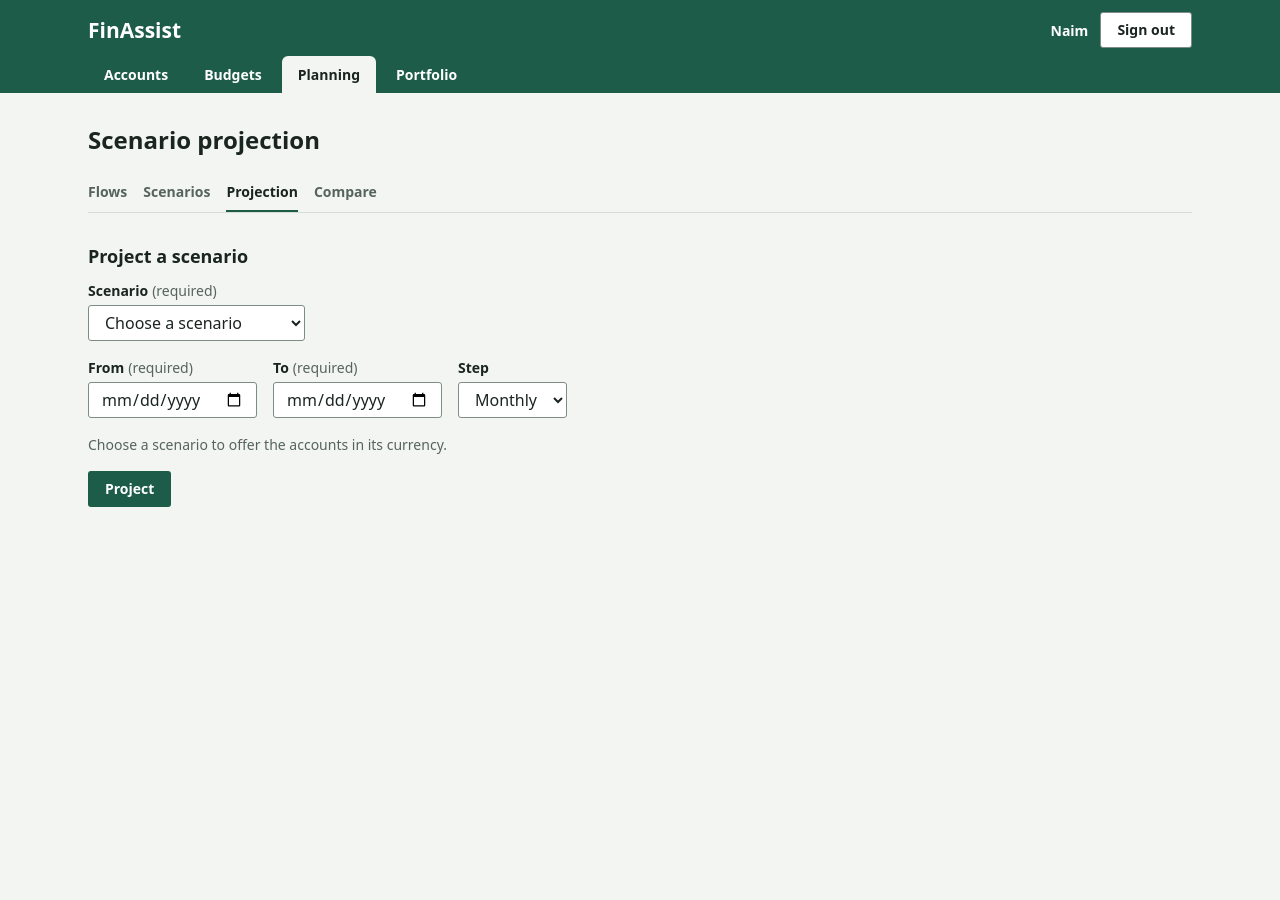
Scenario: PlanningAccountsBridge › Given_accounts_chosen_When_projected_Then_the_request_repeats_cash_and_invested_with_each_accounts_id
The width and height of the screenshot is (1280, 900).
Select "Aggressive saving (ILS)" in the dropdown labelled "Scenario" at (196, 322), box [88,304,305,340]
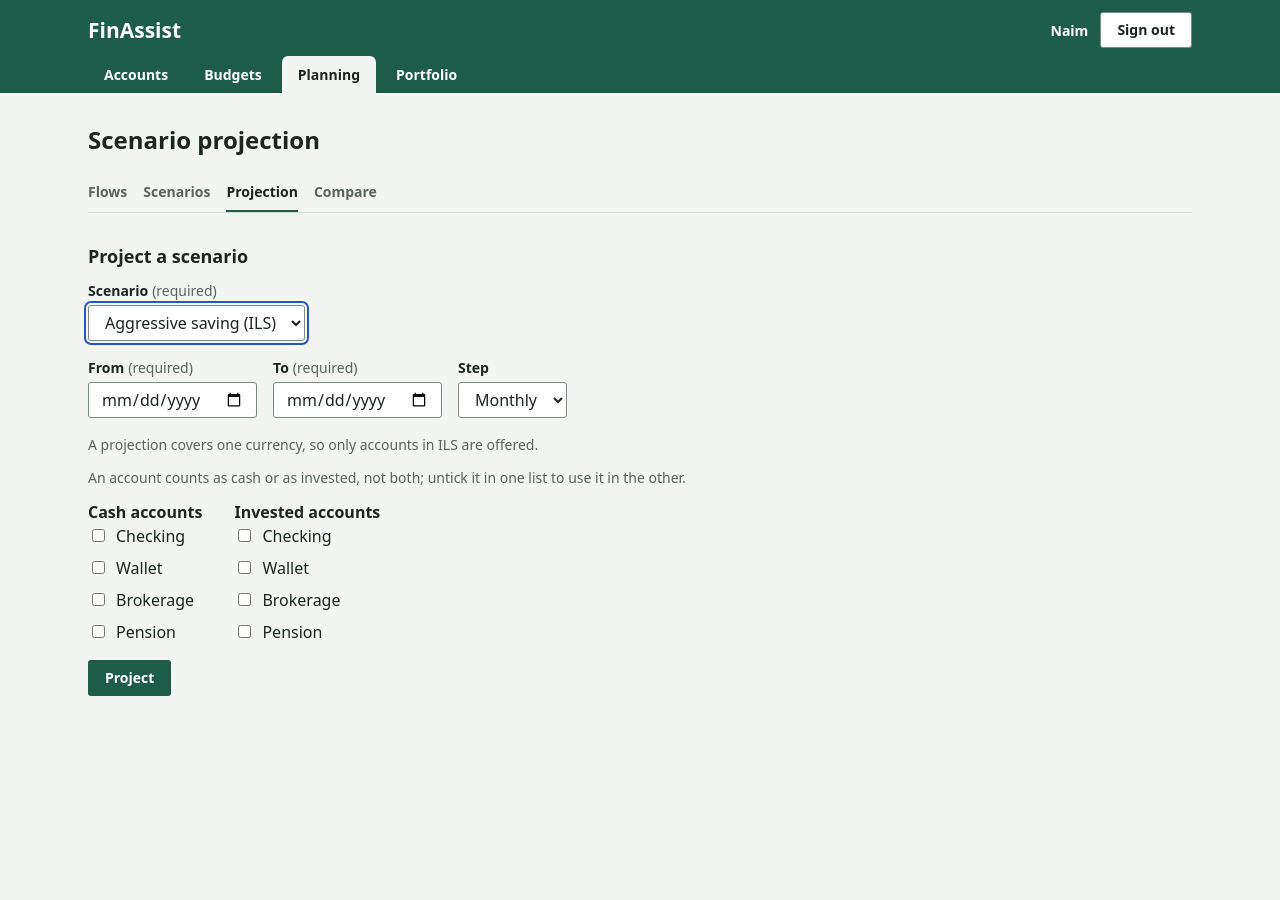
Click the checkbox labelled "Checking" below "Cash accounts".
click(98, 535)  # box [92,528,105,542]
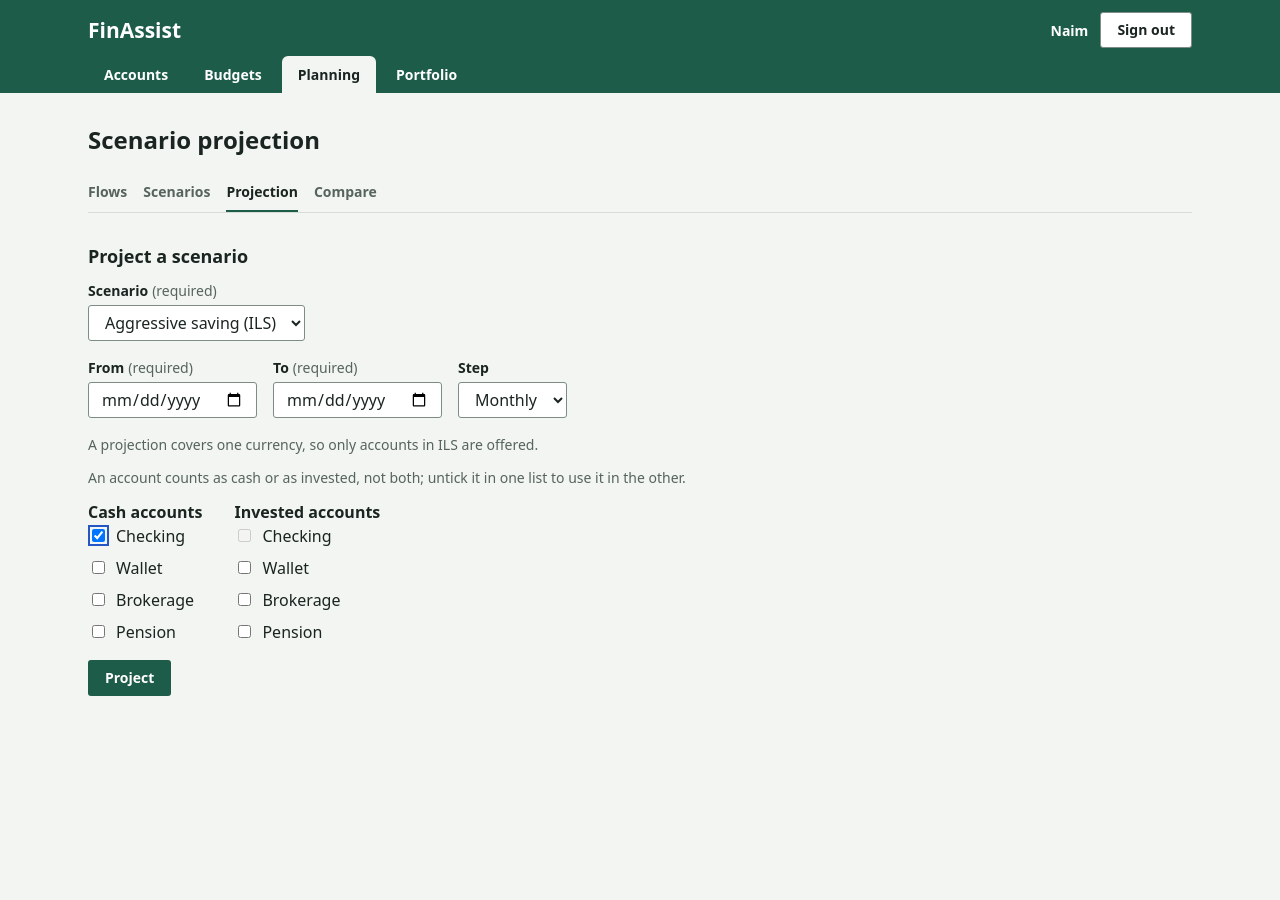
Click the checkbox labelled "Wallet" below "Cash accounts".
click(98, 567)  # box [92,560,105,574]
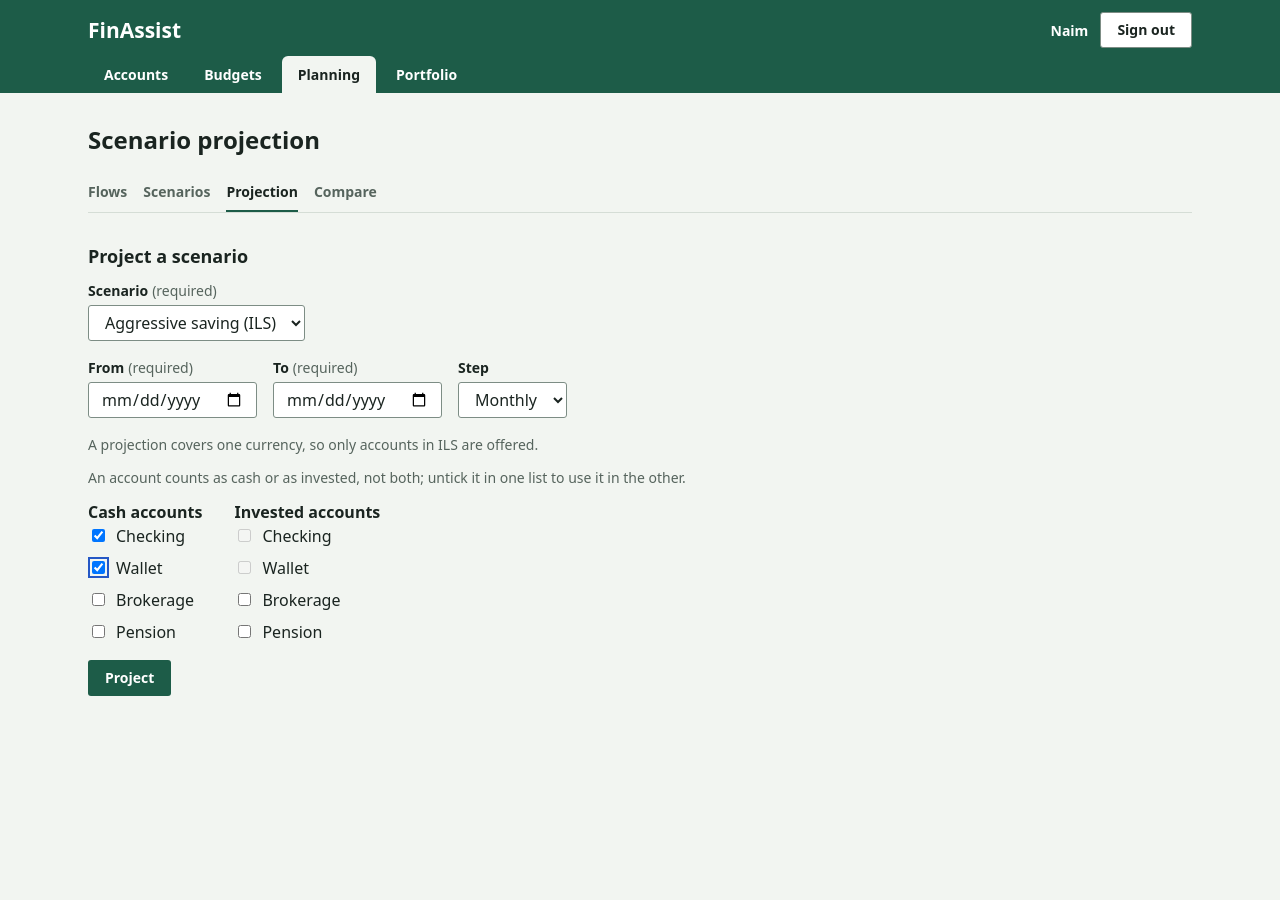
Click the checkbox labelled "Brokerage" below "Invested accounts".
click(245, 599)  # box [238,592,251,606]
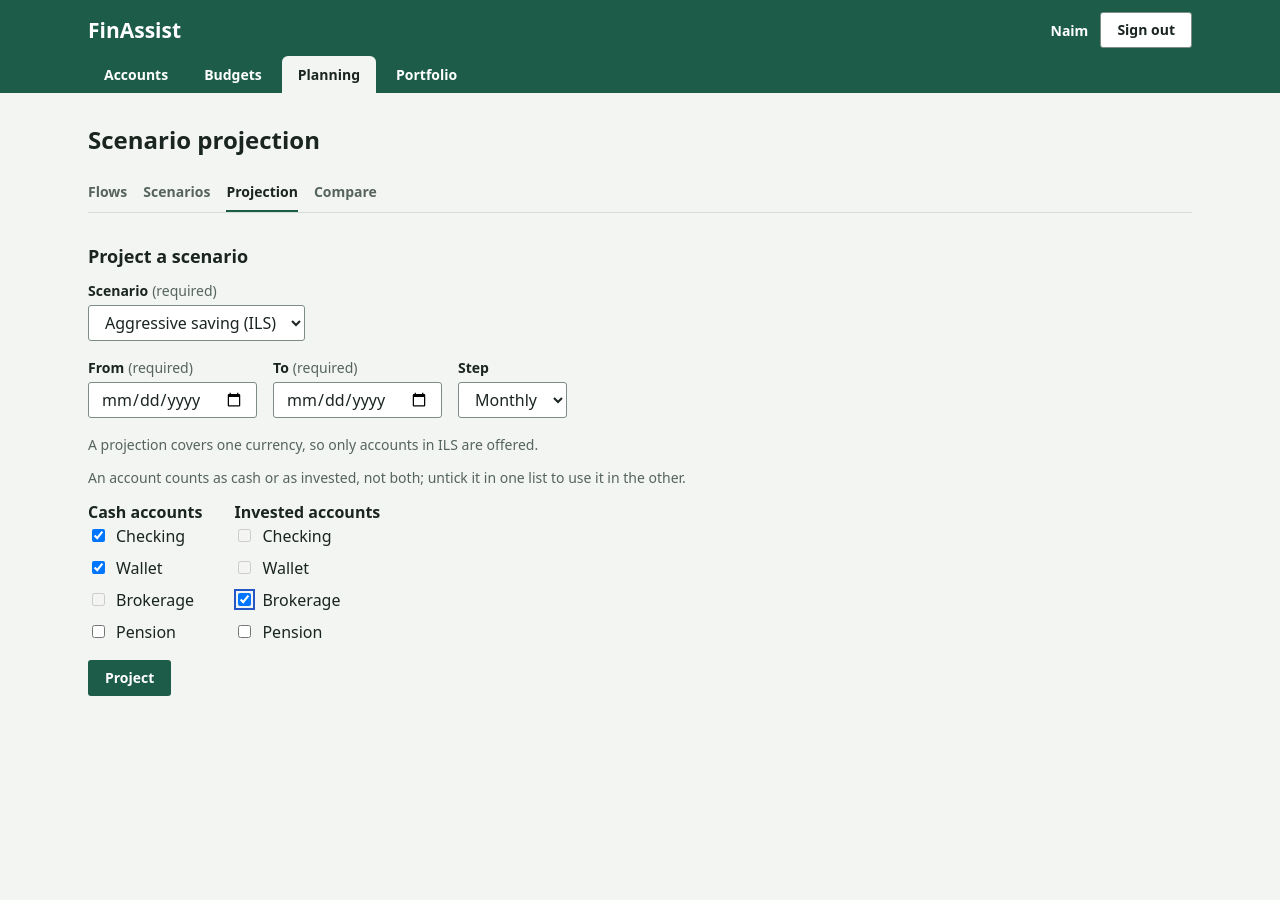
Click the checkbox labelled "Pension" below "Invested accounts".
click(245, 631)  # box [238,624,251,638]
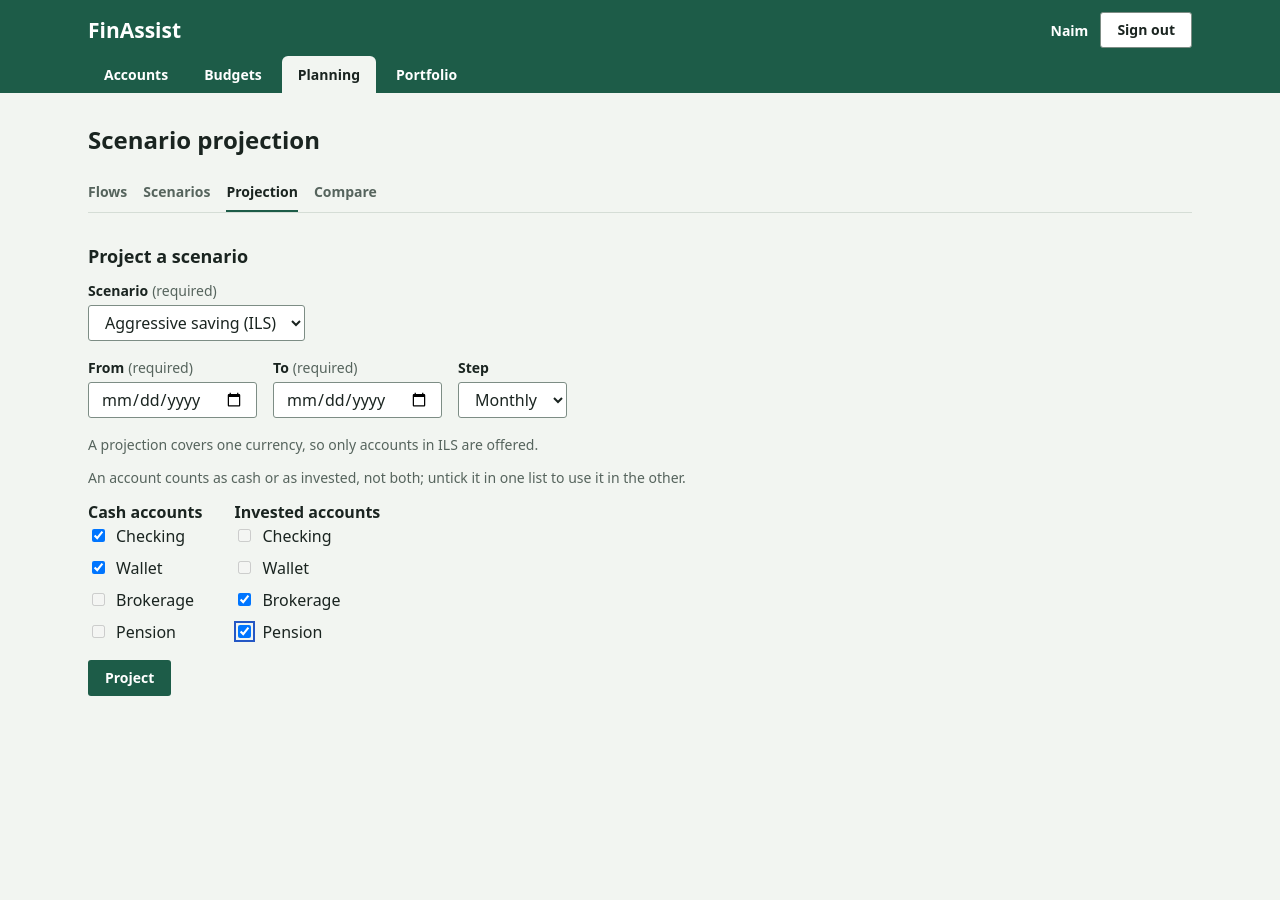
Type "2026-09-01" into the date field labelled "From".
click(172, 400); type("2026-09-01")  # box [88,382,257,418]
Type "2026-11-01" into the date field labelled "To".
click(358, 400); type("2026-11-01")  # box [273,382,442,418]
Click the button "Project".
click(130, 678)  # box [88,660,171,696]
(page scrolled)
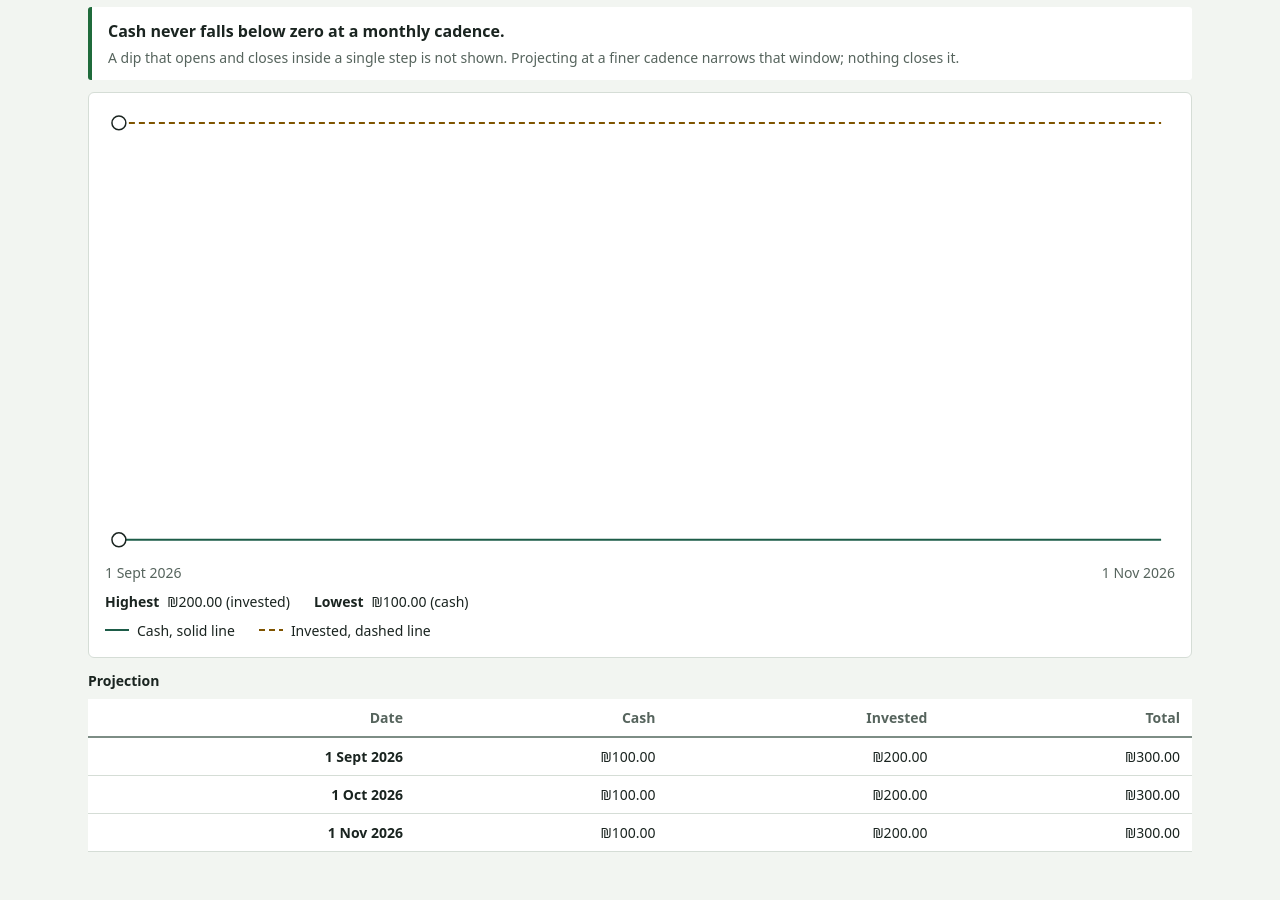
Now the table "Projection" is shown, box [88,670,1192,852]
